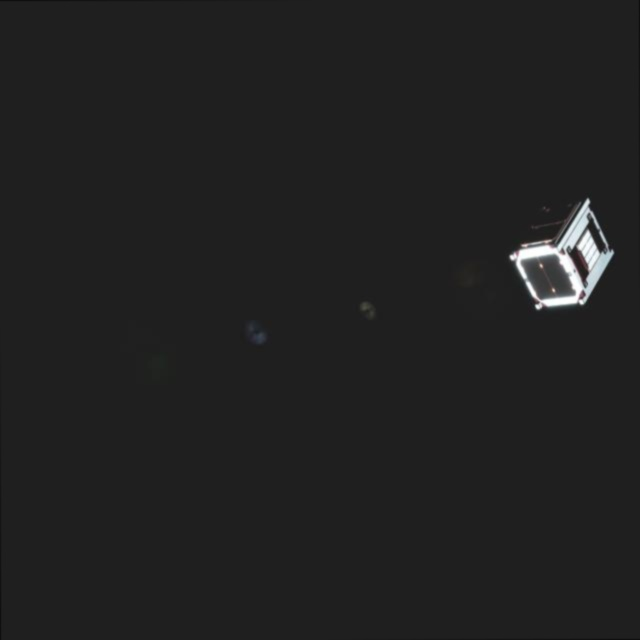satellite: (509, 188, 619, 316)
